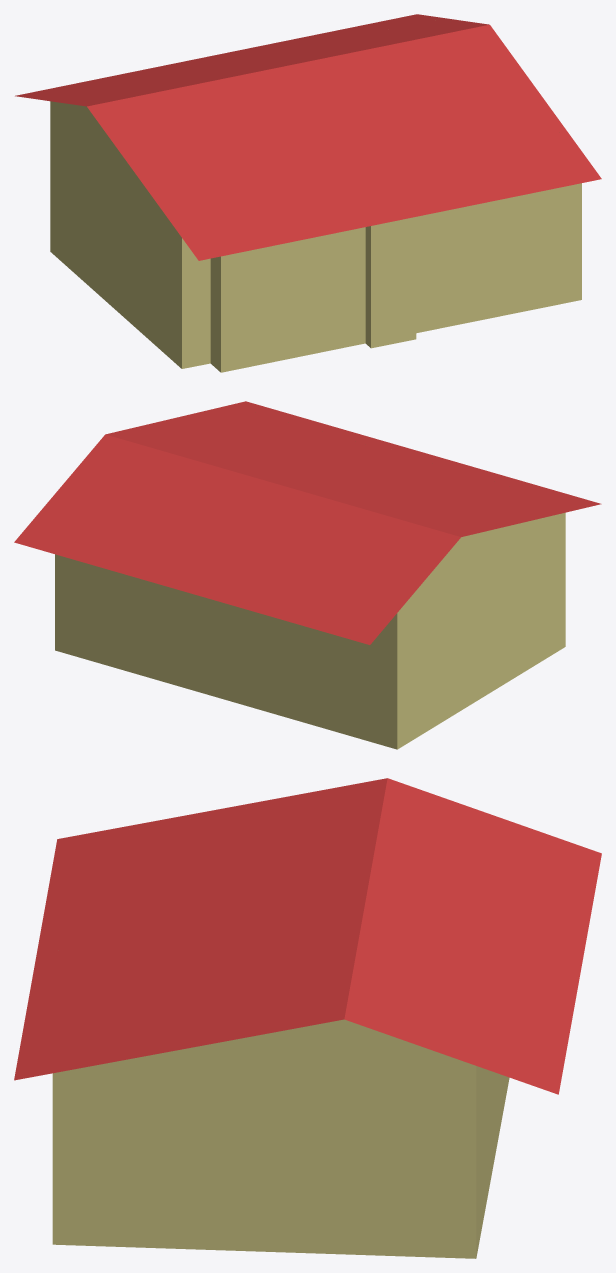
3 renders of one model, top to bottom at view 1: azimuth 30°, elevation 25°; view 2: azimuth 150°, elevation 25°; view 3: azimuth 270°, elevation 25°, orthographic. The views are drawn at different scales.
Bounding box in the file's own units: 29.59 × 28.41 × 12.73.
